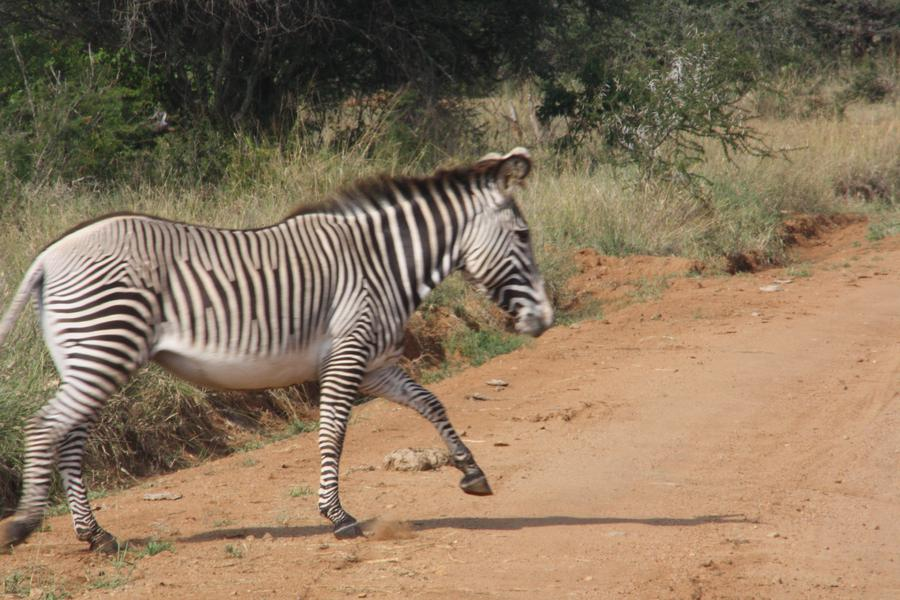zebra_grevys: (35, 198, 391, 355)
